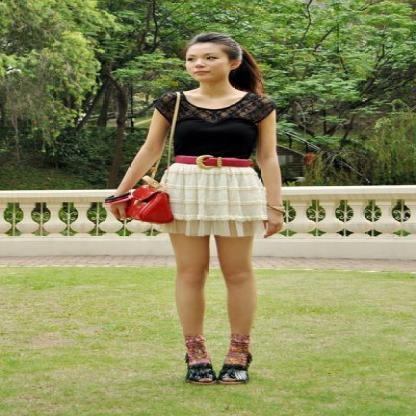bag: (112, 183, 173, 223)
shirt: (138, 93, 272, 158)
shoe: (185, 336, 252, 384)
skirt: (142, 163, 272, 241)
